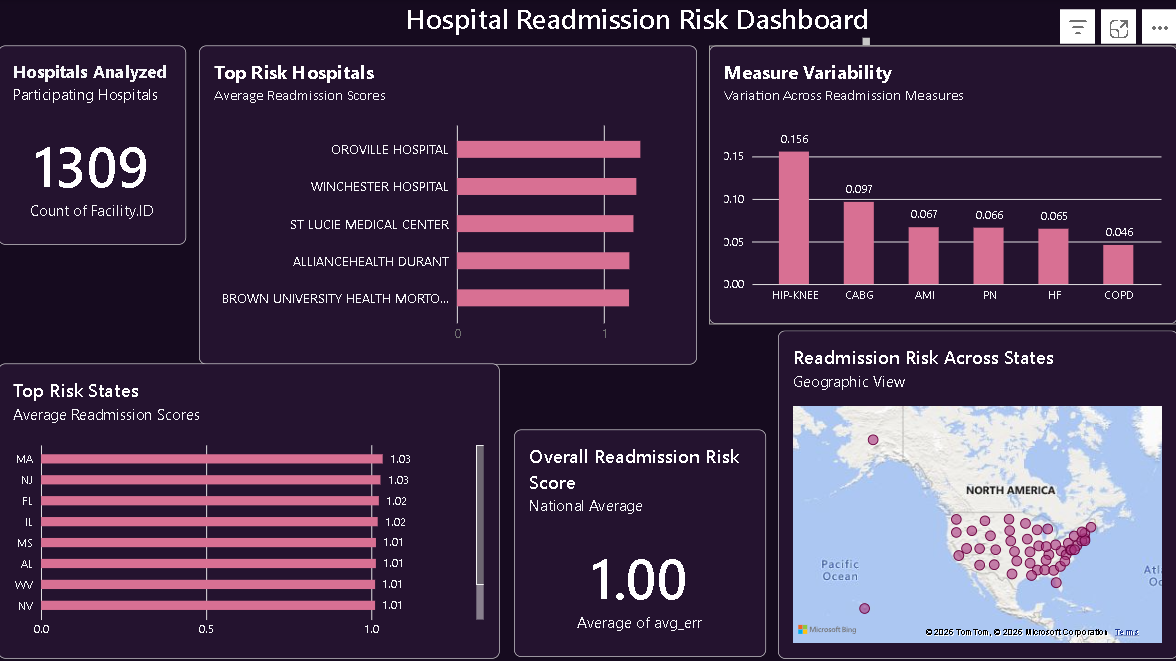

The page's visual inventory and layout, read from the dashboard file:
{"tool":"powerbi","page":{"name":"Page 1","canvas":[1280,720],"ordinal":0},"visuals":[{"type":"clusteredBarChart","title":"Top Risk Hospitals","fields":{"Category":["hospital_ranked.Facility.Name"],"Y":["Avg(hospital_ranked.avg_err)"]},"box":[218,50,540,346],"z":0},{"type":"card","title":"Hospitals Analyzed","fields":{"Values":["CountNonNull(hospital_ranked.Facility.ID)"]},"box":[0,51,204.1,216.3],"z":1000},{"type":"card","title":"Overall Readmission Risk Score","fields":{"Values":["Avg(hospital_ranked.avg_err)"]},"box":[559.2,467.3,273.5,246.9],"z":2000},{"type":"clusteredColumnChart","title":"Measure Variability","fields":{"Category":["measure_variation.Measure_Short"],"Y":["Sum(measure_variation.sd_err)"]},"box":[771.4,51,508.2,302],"z":3000},{"type":"clusteredBarChart","title":"Top Risk States","fields":{"Category":["state_summary.State"],"Y":["Avg(state_summary.avg_err)"]},"box":[0,396,544,320],"z":4000},{"type":"map","title":"Readmission Risk Across States","fields":{"Category":["state_summary.State"],"Size":["Sum(state_summary.avg_err)"]},"box":[846,360,434,356],"z":5000},{"type":"textbox","title":"Hospital Readmission Risk Dashboard","box":[116,0,830,50],"z":6000}]}

Visuals, with their boxes in screenshot pixels (x1, y1, x2, y2), scaled from the page's 1280x720 canvas onto the 1176x661 screenshot:
"Top Risk Hospitals" clusteredBarChart: bbox(200, 46, 696, 364)
"Hospitals Analyzed" card: bbox(0, 47, 188, 245)
"Overall Readmission Risk Score" card: bbox(514, 429, 765, 656)
"Measure Variability" clusteredColumnChart: bbox(709, 47, 1175, 324)
"Top Risk States" clusteredBarChart: bbox(0, 364, 500, 657)
"Readmission Risk Across States" map: bbox(777, 330, 1175, 657)
"Hospital Readmission Risk Dashboard" textbox: bbox(107, 0, 869, 46)
